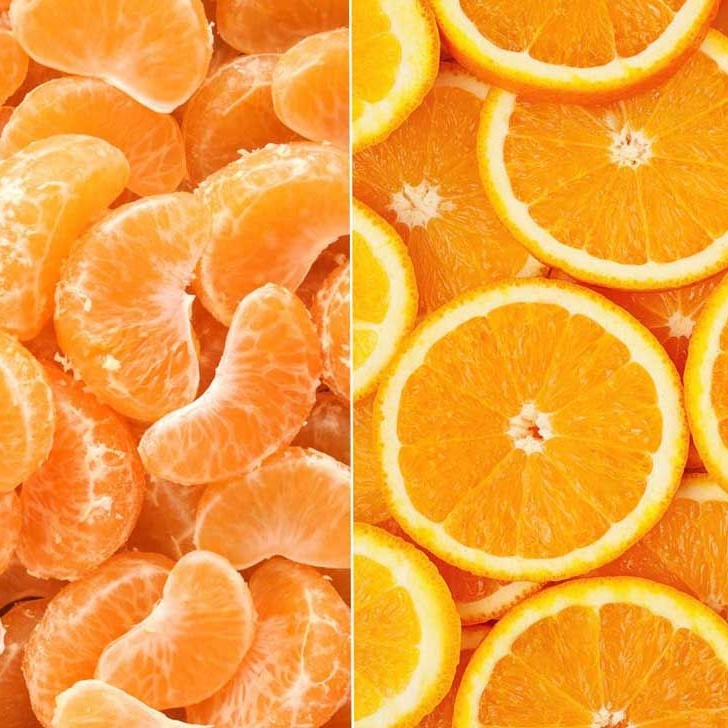mandarin: (374, 277, 687, 581), (477, 21, 726, 289), (353, 65, 552, 316), (452, 577, 727, 728), (142, 285, 321, 494), (54, 194, 198, 424), (429, 1, 720, 103), (182, 554, 350, 728), (23, 357, 146, 577), (200, 141, 350, 320), (1, 137, 129, 345), (94, 550, 254, 715), (25, 552, 178, 724), (9, 1, 213, 111), (356, 520, 463, 728), (2, 78, 188, 197), (193, 445, 353, 576), (181, 52, 307, 181), (350, 1, 440, 149), (679, 278, 728, 488), (269, 28, 347, 143), (219, 1, 345, 55)
